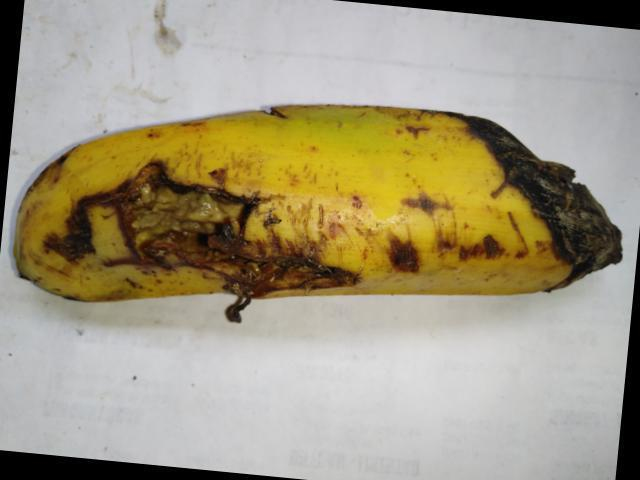ripe: (7, 101, 524, 334)
rotten: (429, 83, 636, 310), (46, 155, 323, 323)
